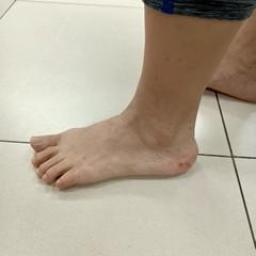Lateral View -Left Foot-: (14, 90, 225, 208)
